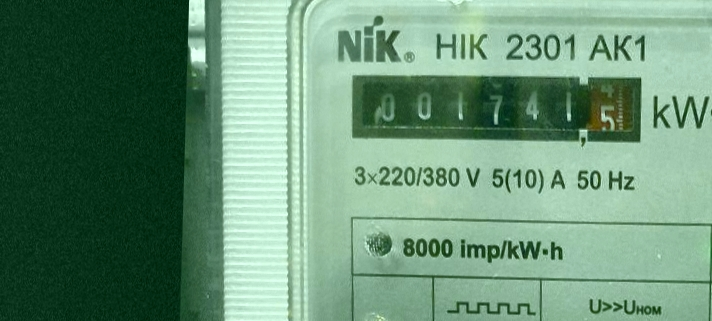0: (413, 88, 433, 122), (377, 90, 397, 123)
1: (449, 87, 467, 123), (559, 89, 575, 124)
4: (521, 87, 542, 122), (598, 81, 614, 100)
5: (596, 101, 616, 133)
7: (485, 91, 503, 126)
screen: (343, 63, 648, 152)
